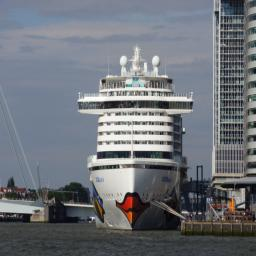cruises: (77, 45, 196, 235)
